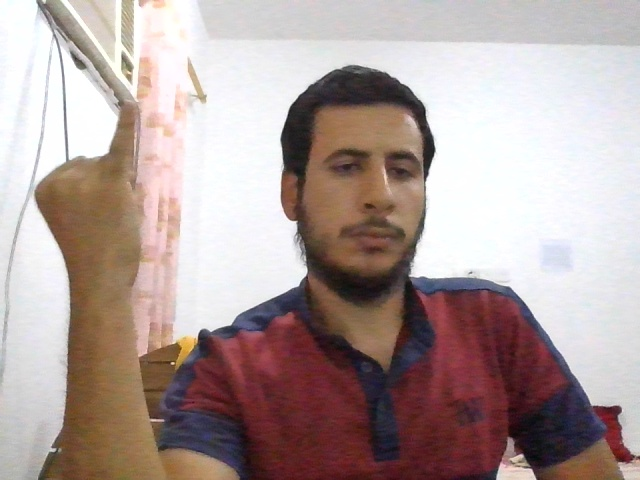One: (35, 98, 140, 280)
